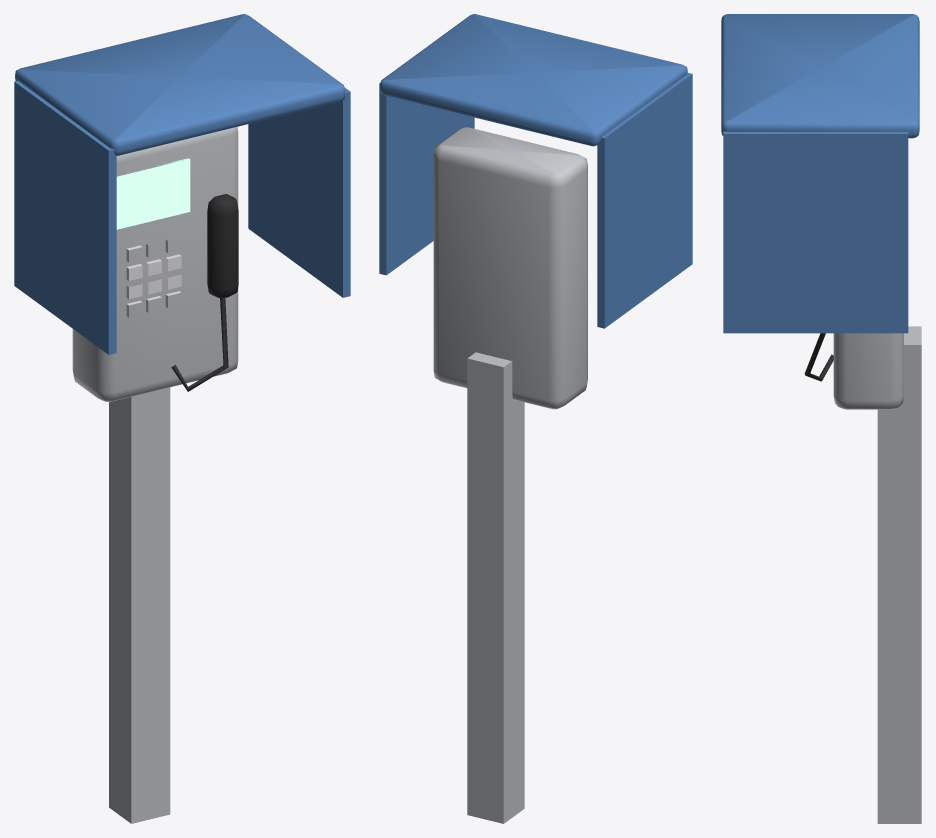
File: payphone.glb
3 renders of one model, left to right at view 1: azimuth 30°, elevation 25°; view 2: azimuth 150°, elevation 25°; view 3: azimuth 270°, elevation 25°, orthographic. The views are drawn at different scales.
Visible parts, largest first — view 1: Payphone; view 2: Payphone; view 3: Payphone.
Part boxes in pixels (x1,y1,x2,y2): Payphone: [14, 14, 350, 823]; Payphone: [379, 14, 692, 823]; Payphone: [721, 14, 921, 823].
Bounding box in the file's own units: 0.62 × 1.87 × 0.455.
